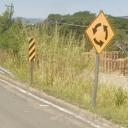Rotatoria: (83, 9, 116, 56)
